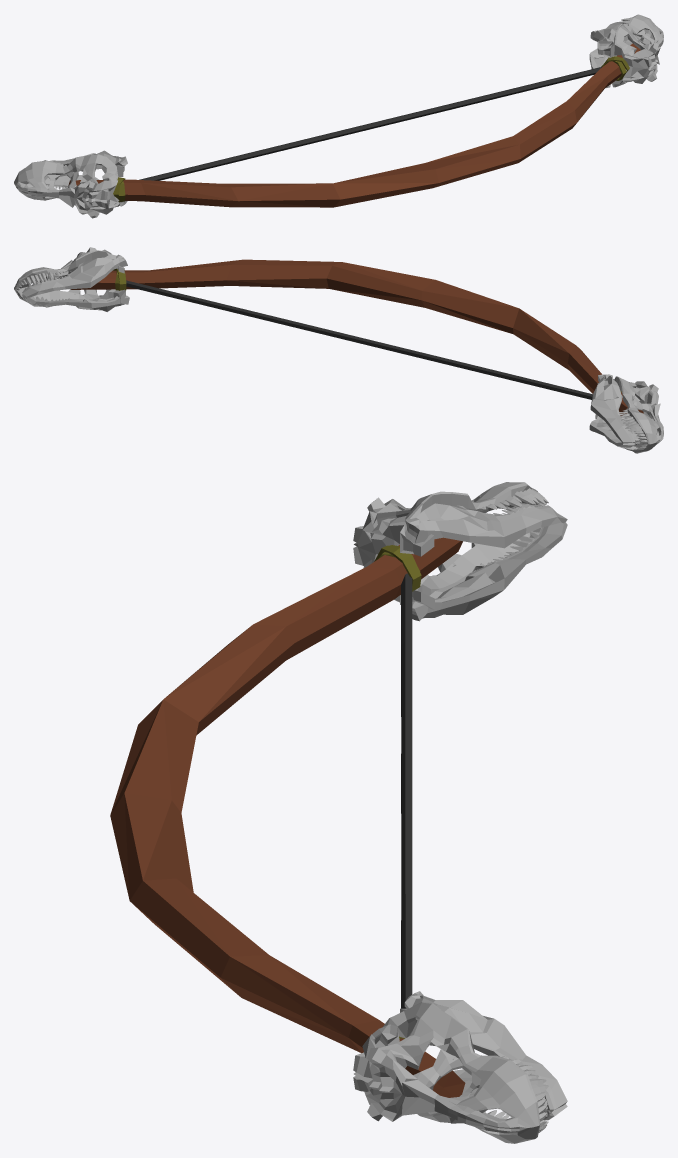
File: Bow.fbx
3 views of the same model, one above another, from view 1: azimuth 30°, elevation 25°; view 2: azimuth 150°, elevation 25°; view 3: azimuth 270°, elevation 25° (orthographic). The views are drawn at different scales.
Parts seen in each view (by area): view 1: Bow_wood1, wire_L, wire_R; view 2: Bow_wood1, wire_L, wire_R; view 3: Bow_wood1, wire_R, wire_L.
Boxes of the visible parts, x1,y1,x2,y2 form: Bow_wood1: (14,14,663,218); wire_L: (364,67,601,130); wire_R: (139,125,366,180); Bow_wood1: (14,247,663,453); wire_L: (126,280,365,344); wire_R: (363,339,592,399); Bow_wood1: (110,482,567,1143); wire_R: (401,573,412,813); wire_L: (401,808,412,1008).
Bounding box in the file's own units: 348 × 30.47 × 107.
